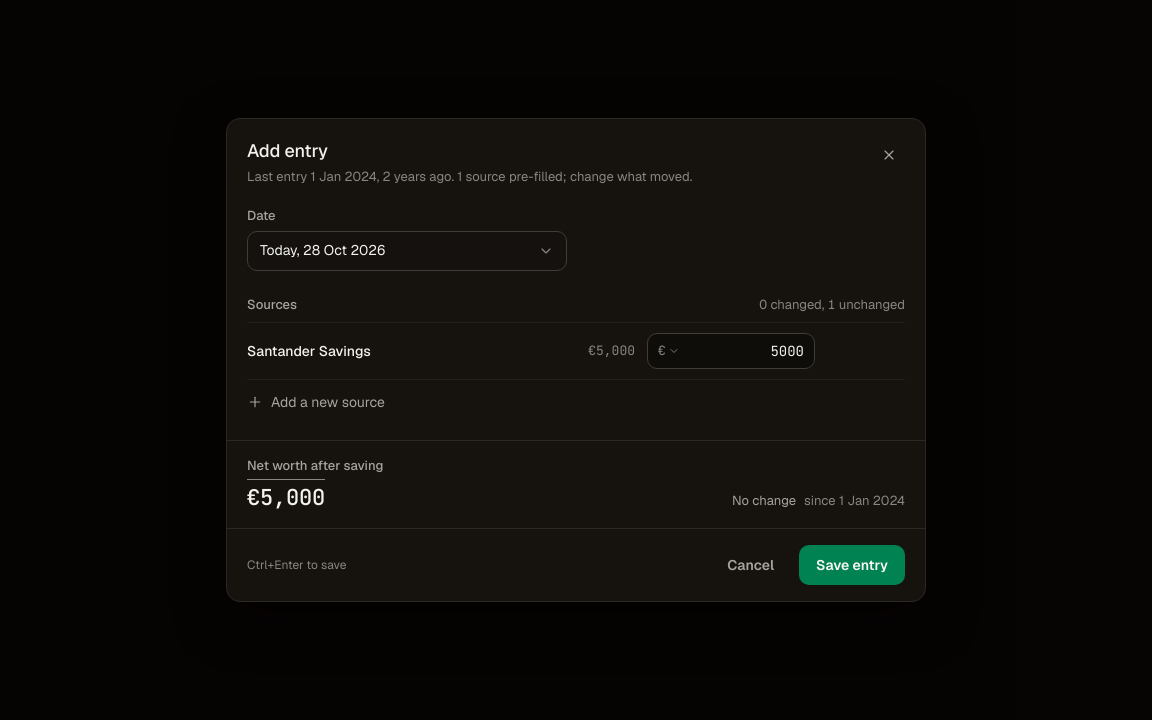
Scenario: AddMeasurementModal — Save with the new-source form open › refuses a half-filled form instead of dropping it
Click the button "Add a new source". click: x=328, y=402
box: [247,380,905,424]
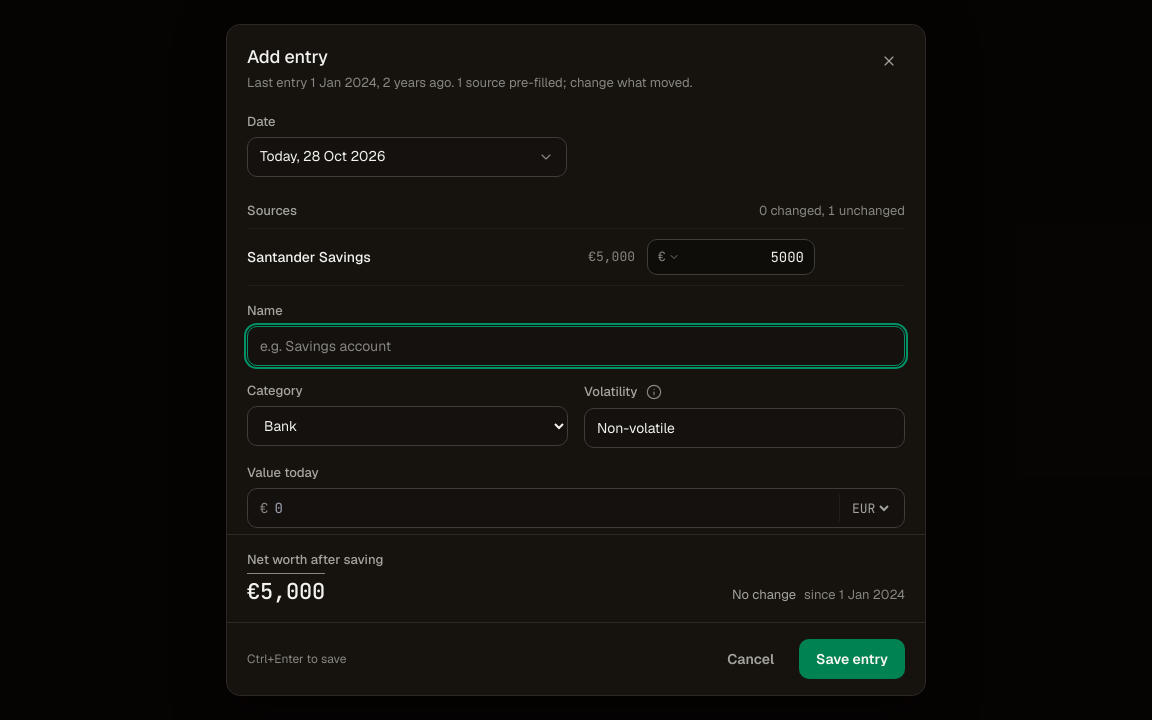
Type "Revolut" into the field labelled "Name". click: x=576, y=346
box: [247,326,905,366]
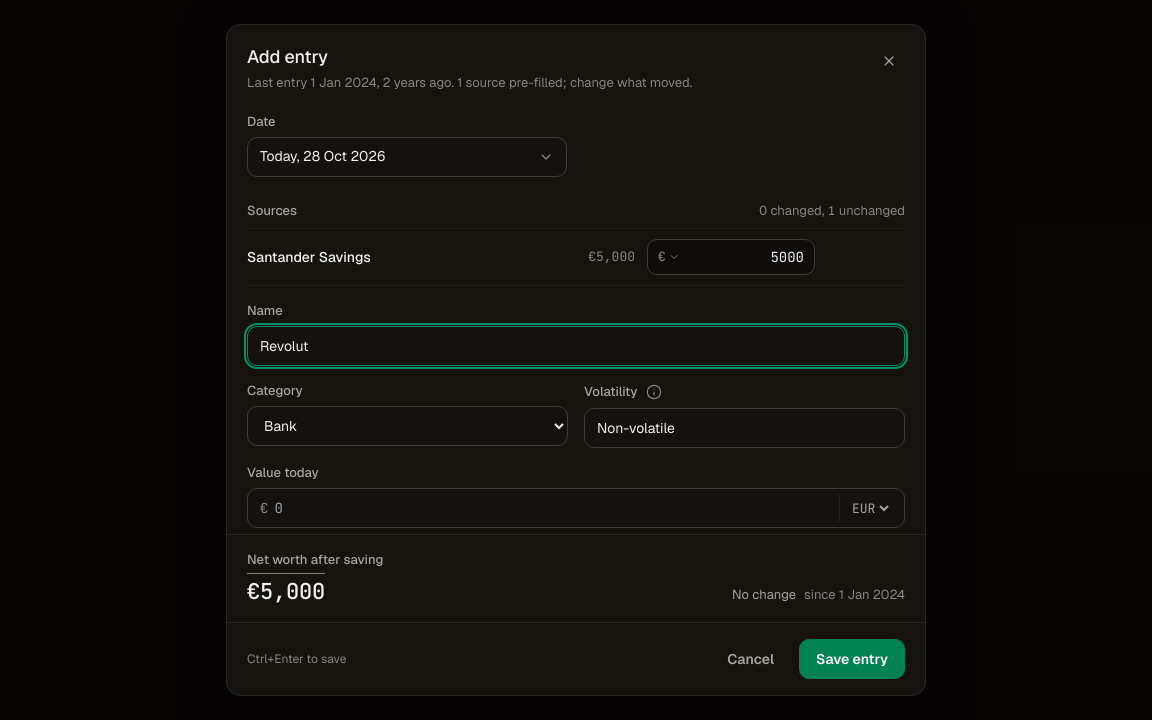
Click the button "Save entry". click: x=852, y=659
box: [799,639,905,679]
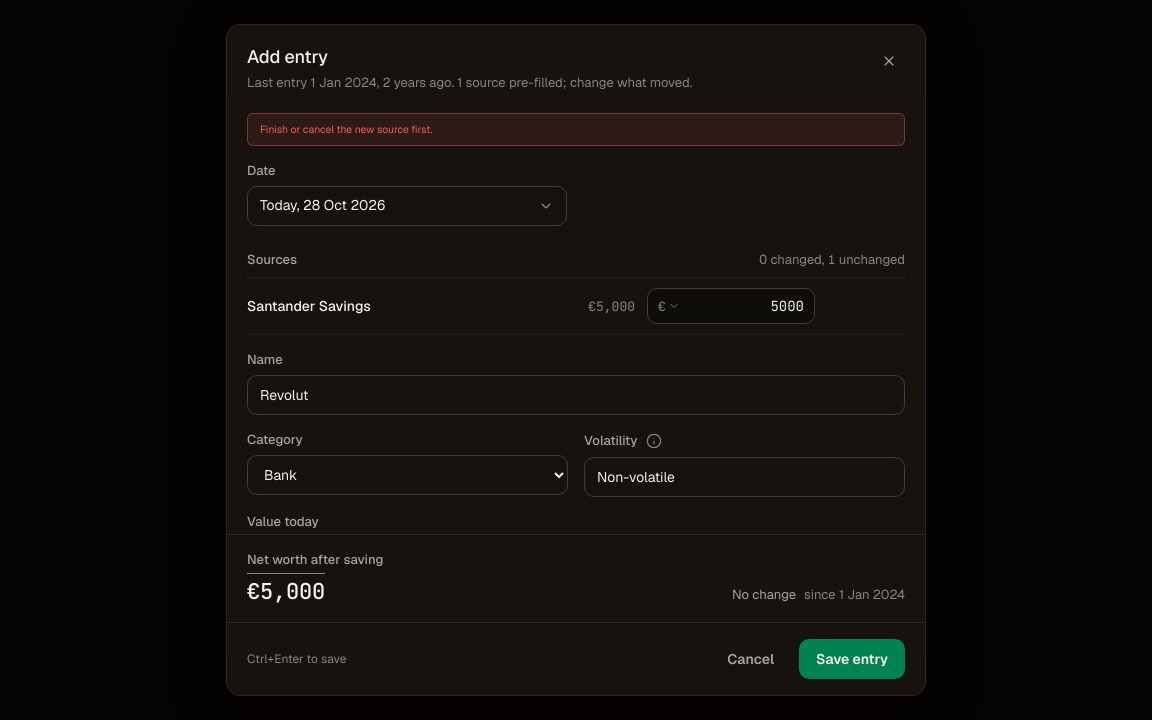
Expected: the message reads "Finish or cancel the new source first.", [260,122,432,136]
